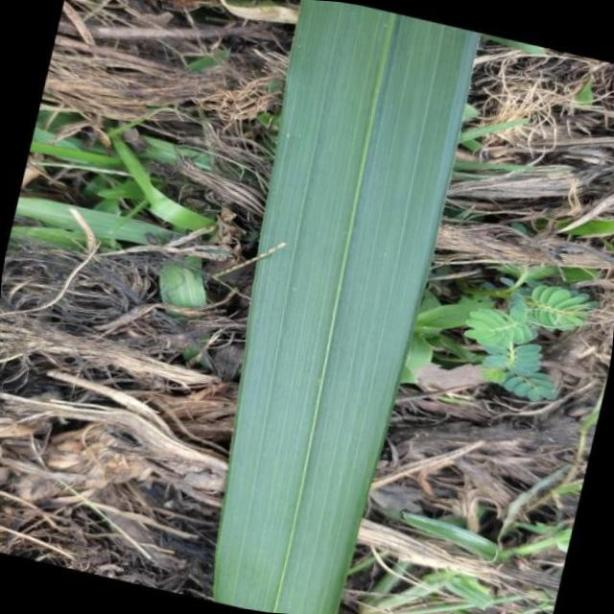Healthy: (210, 3, 476, 614)
